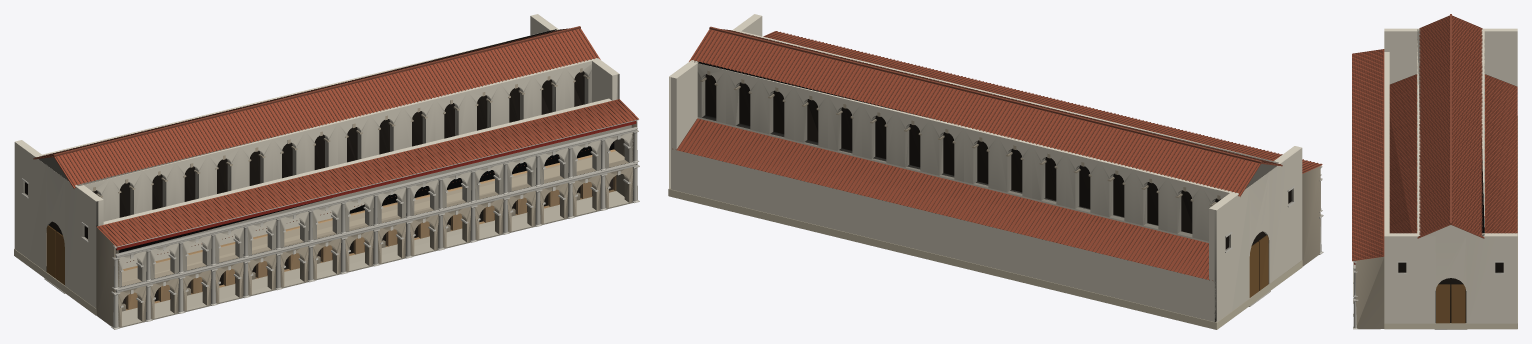
File: rome_basilica_aemilia.glb
3 views of the same model, side by side, from view 1: azimuth 30°, elevation 25°; view 2: azimuth 150°, elevation 25°; view 3: azimuth 270°, elevation 25° (orthographic). The views are drawn at different scales.
Parts seen in each view (by area): view 1: rome_basilica_aemilia; view 2: rome_basilica_aemilia; view 3: rome_basilica_aemilia.
Boxes of the visible parts, <box> form: rome_basilica_aemilia: <box>14,14,639,329</box>; rome_basilica_aemilia: <box>668,14,1323,329</box>; rome_basilica_aemilia: <box>1352,14,1517,329</box>.
Bounding box in the file's own units: 96.6 × 23.2 × 32.39.
